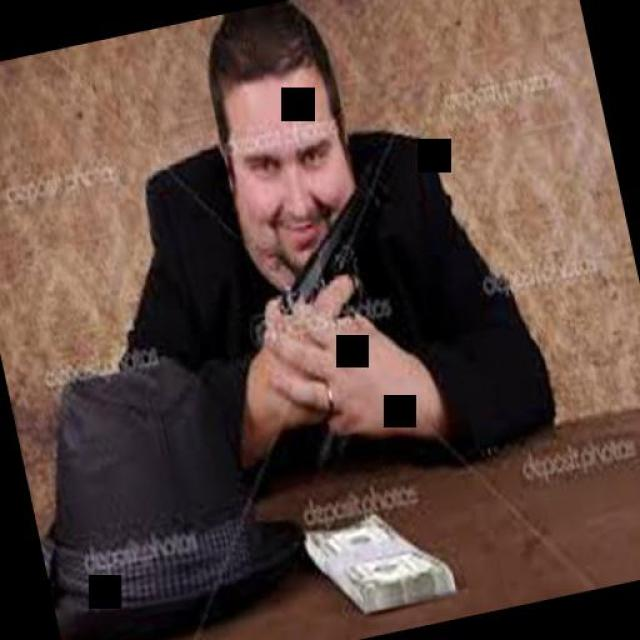gun: (255, 180, 385, 325)
